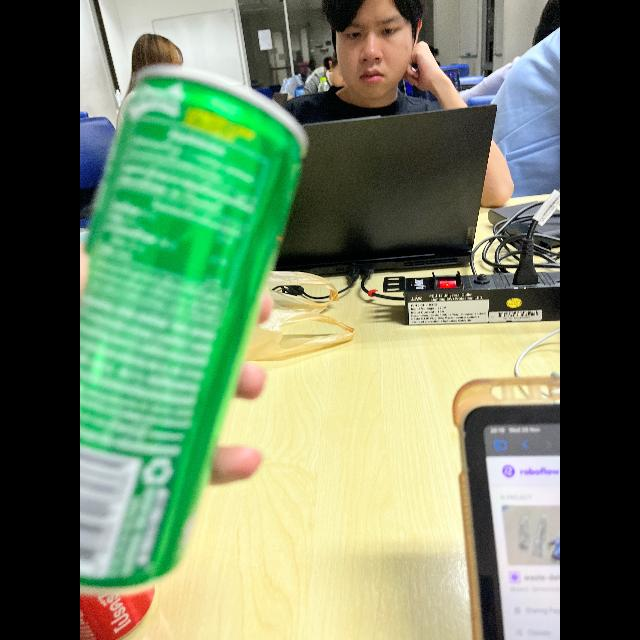can: (80, 64, 314, 586)
